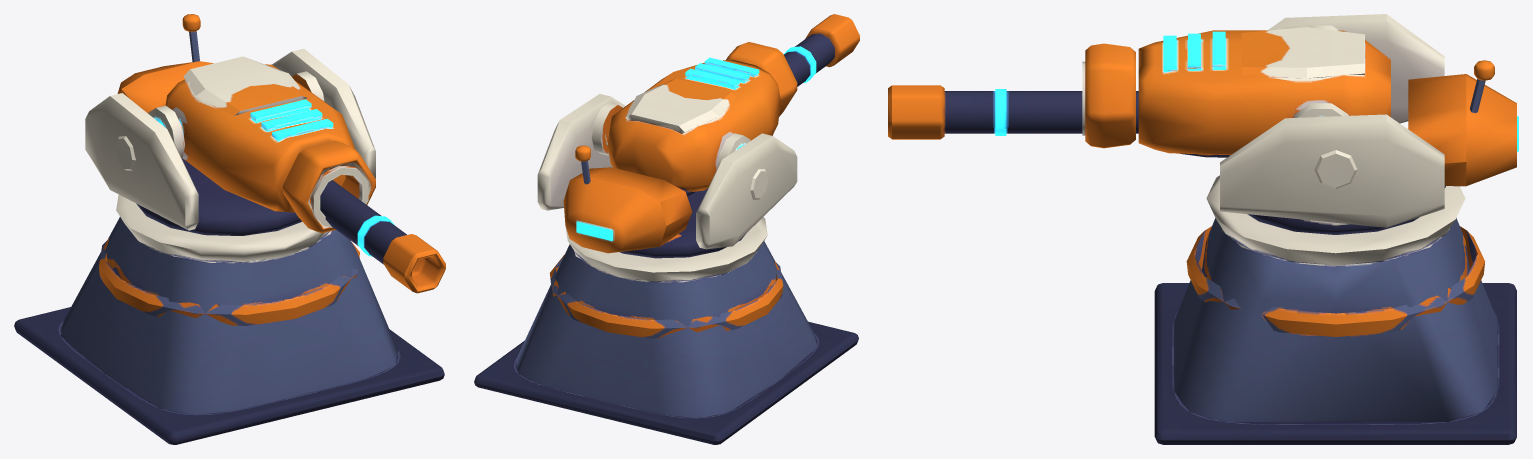
The model's file is R4W_Basic_LOD1.fbx.
The picture shows the model from 3 angles, left to right: view 1: azimuth 30°, elevation 25°; view 2: azimuth 150°, elevation 25°; view 3: azimuth 270°, elevation 25°; orthographic projection. The views are drawn at different scales.
Parts seen in each view (by area): view 1: R4W_Basic_LOD1; view 2: R4W_Basic_LOD1; view 3: R4W_Basic_LOD1.
Boxes of the visible parts, bbox=[...] form: R4W_Basic_LOD1: bbox=[14, 14, 445, 444]; R4W_Basic_LOD1: bbox=[474, 14, 859, 444]; R4W_Basic_LOD1: bbox=[888, 14, 1518, 444].
Bounding box in the file's own units: 0.5 × 0.496 × 0.8705.
